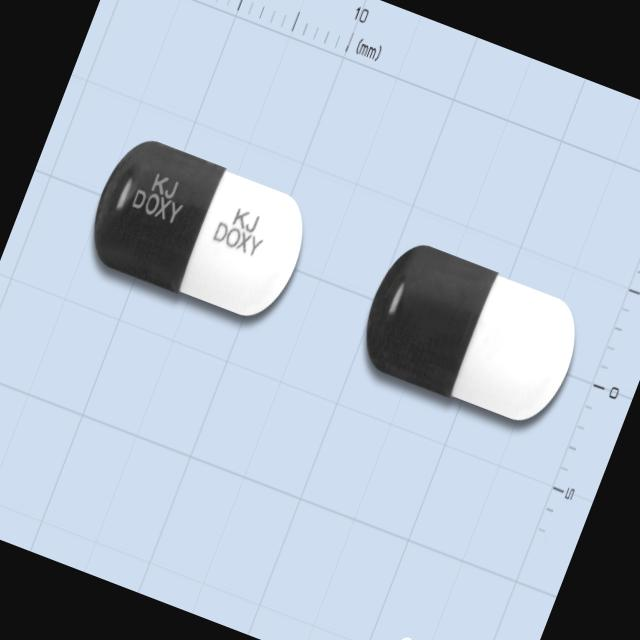Doxycycline Hyclate Cap: (77, 130, 320, 332)
